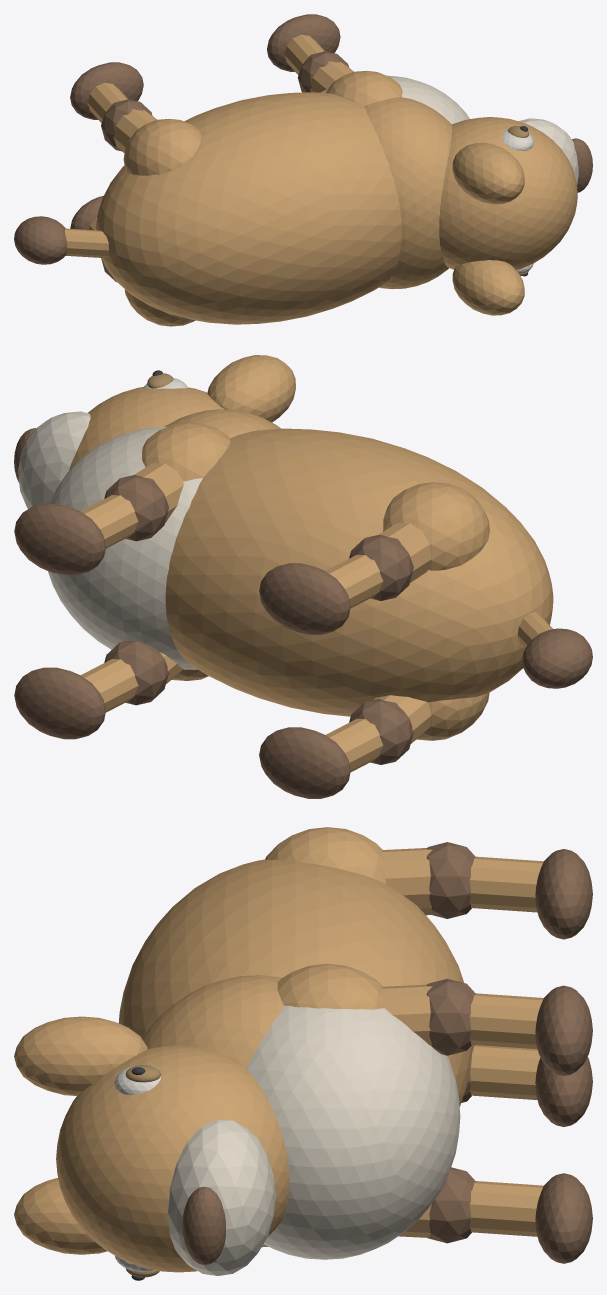
The model's file is shiba_inu.glb.
3 renders of one model, top to bottom at view 1: azimuth 30°, elevation 25°; view 2: azimuth 150°, elevation 25°; view 3: azimuth 270°, elevation 25°, orthographic. The views are drawn at different scales.
Visible parts, largest first — view 1: world; view 2: world; view 3: world.
Part boxes in pixels (x1,y1,x2,y2): world: (14,14,592,326); world: (14,355,592,798); world: (14,827,592,1280).
Size of the model in its own units: 2.62 by 0.96 by 1.79.
